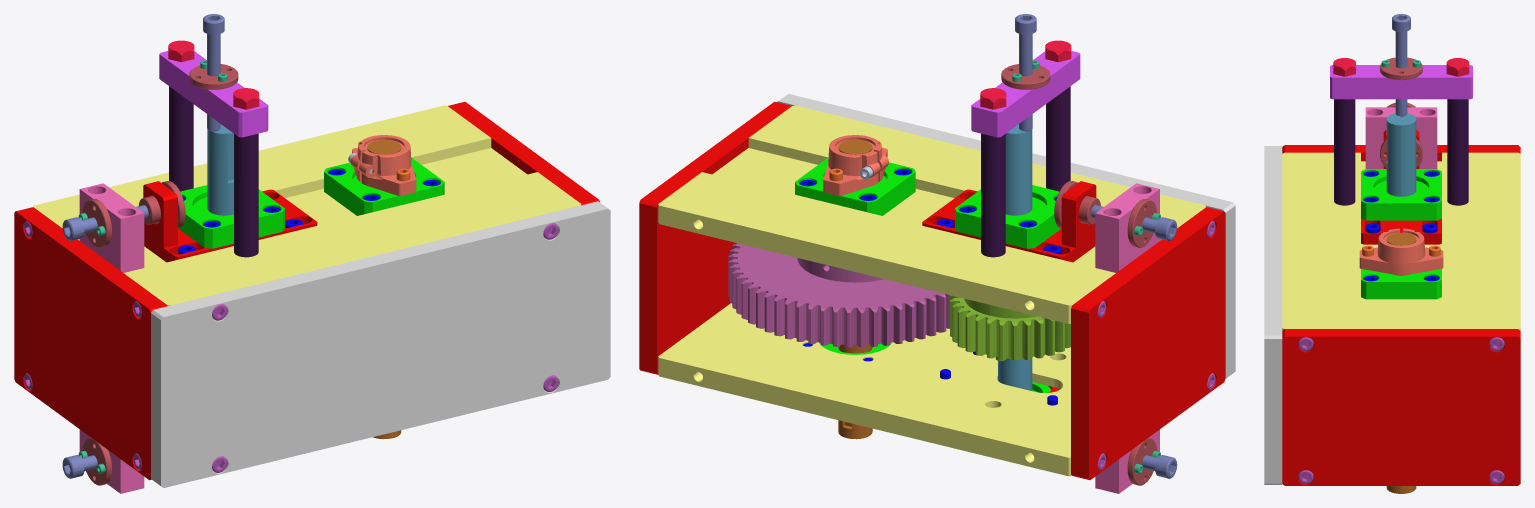
Rendered from box_asm.glb.
3 views of the same model, side by side, from view 1: azimuth 30°, elevation 25°; view 2: azimuth 150°, elevation 25°; view 3: azimuth 270°, elevation 25° (orthographic). The views are drawn at different scales.
Visible parts, largest first — view 1: COVER3, COVER1, COVER2 (×2), DOCAO (×2), DOTRUOT (×2), CAO, TRUOT, NUTS (×4), GOIDO1, GOIDO2, KHOATRUC_ASM, TRUC1 (+1 smaller); view 2: COVER1 (×2), COVER2 (×2), GEAR60, COVER3, GEAR30, DOCAO (×2), DOTRUOT (×2), CAO, TRUOT, TRUC1, NUTS (×4), GOIDO2 (+4 smaller); view 3: COVER2 (×2), COVER1, COVER3, DOCAO (×2), CAO, GOIDO1, DOTRUOT, TRUC1, KHOATRUC_ASM, GOIDO2, TRUOT, M10X80A (+3 smaller).
Part boxes in pixels (x1=…): COVER3: x1=151, y1=201, x2=610, y2=487; COVER1: x1=33, y1=105, x2=581, y2=305; COVER2 (×2): x1=14, y1=101, x2=599, y2=480; DOCAO (×2): x1=169, y1=86, x2=258, y2=257; DOTRUOT (×2): x1=79, y1=183, x2=144, y2=493; CAO: x1=159, y1=51, x2=268, y2=137; TRUOT: x1=143, y1=181, x2=317, y2=262; NUTS (×4): x1=82, y1=64, x2=238, y2=485; GOIDO1: x1=179, y1=185, x2=284, y2=248; GOIDO2: x1=324, y1=157, x2=444, y2=215; KHOATRUC_ASM: x1=350, y1=135, x2=416, y2=196; TRUC1: x1=207, y1=124, x2=233, y2=215; COVER1 (×2): x1=658, y1=105, x2=1205, y2=476; COVER2 (×2): x1=639, y1=101, x2=1225, y2=479; GEAR60: x1=728, y1=243, x2=949, y2=347; COVER3: x1=777, y1=93, x2=1235, y2=378; GEAR30: x1=950, y1=295, x2=1070, y2=361; DOCAO (×2): x1=981, y1=86, x2=1070, y2=257; DOTRUOT (×2): x1=1095, y1=183, x2=1159, y2=493; CAO: x1=971, y1=51, x2=1080, y2=137; TRUOT: x1=922, y1=181, x2=1096, y2=262; TRUC1: x1=998, y1=124, x2=1032, y2=390; NUTS (×4): x1=1001, y1=64, x2=1157, y2=485; GOIDO2: x1=795, y1=157, x2=915, y2=215; COVER2 (×2): x1=1282, y1=145, x2=1520, y2=485; COVER1: x1=1282, y1=152, x2=1520, y2=330; COVER3: x1=1264, y1=146, x2=1282, y2=484; DOCAO (×2): x1=1334, y1=99, x2=1468, y2=205; CAO: x1=1330, y1=65, x2=1472, y2=99; GOIDO1: x1=1361, y1=169, x2=1441, y2=220; DOTRUOT: x1=1365, y1=107, x2=1437, y2=168; TRUC1: x1=1386, y1=113, x2=1416, y2=196; KHOATRUC_ASM: x1=1359, y1=228, x2=1443, y2=274; GOIDO2: x1=1361, y1=250, x2=1441, y2=299; TRUOT: x1=1361, y1=130, x2=1441, y2=244; M10X80A: x1=1392, y1=14, x2=1410, y2=116.
Bounding box in the file's own units: 0.393 × 0.368 × 0.215.
